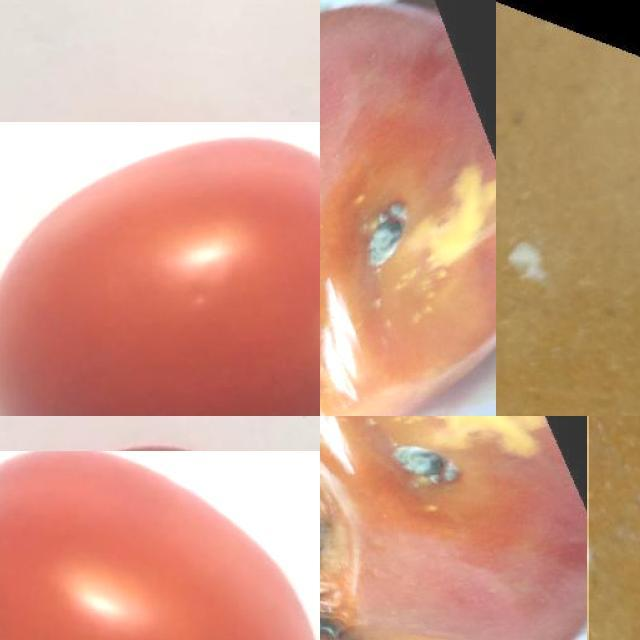Fresh Tomato: (0, 122, 320, 416), (0, 450, 320, 640)
Rotten Tomato: (320, 0, 496, 416), (320, 416, 589, 640)
